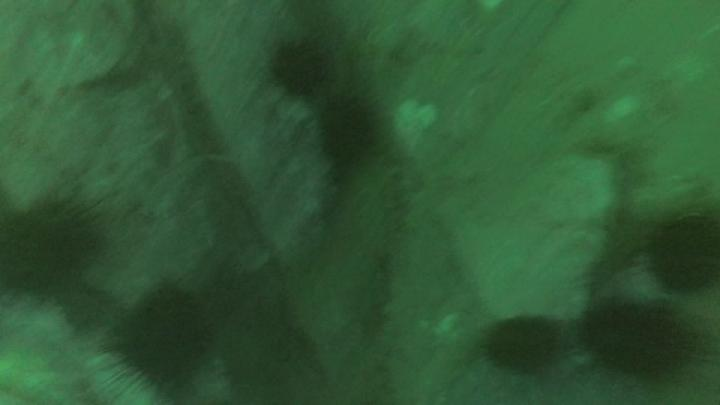echinus: (94, 273, 222, 403), (571, 281, 713, 391), (5, 191, 116, 307), (467, 303, 581, 387), (634, 201, 720, 303), (308, 90, 391, 181), (265, 34, 339, 100)
